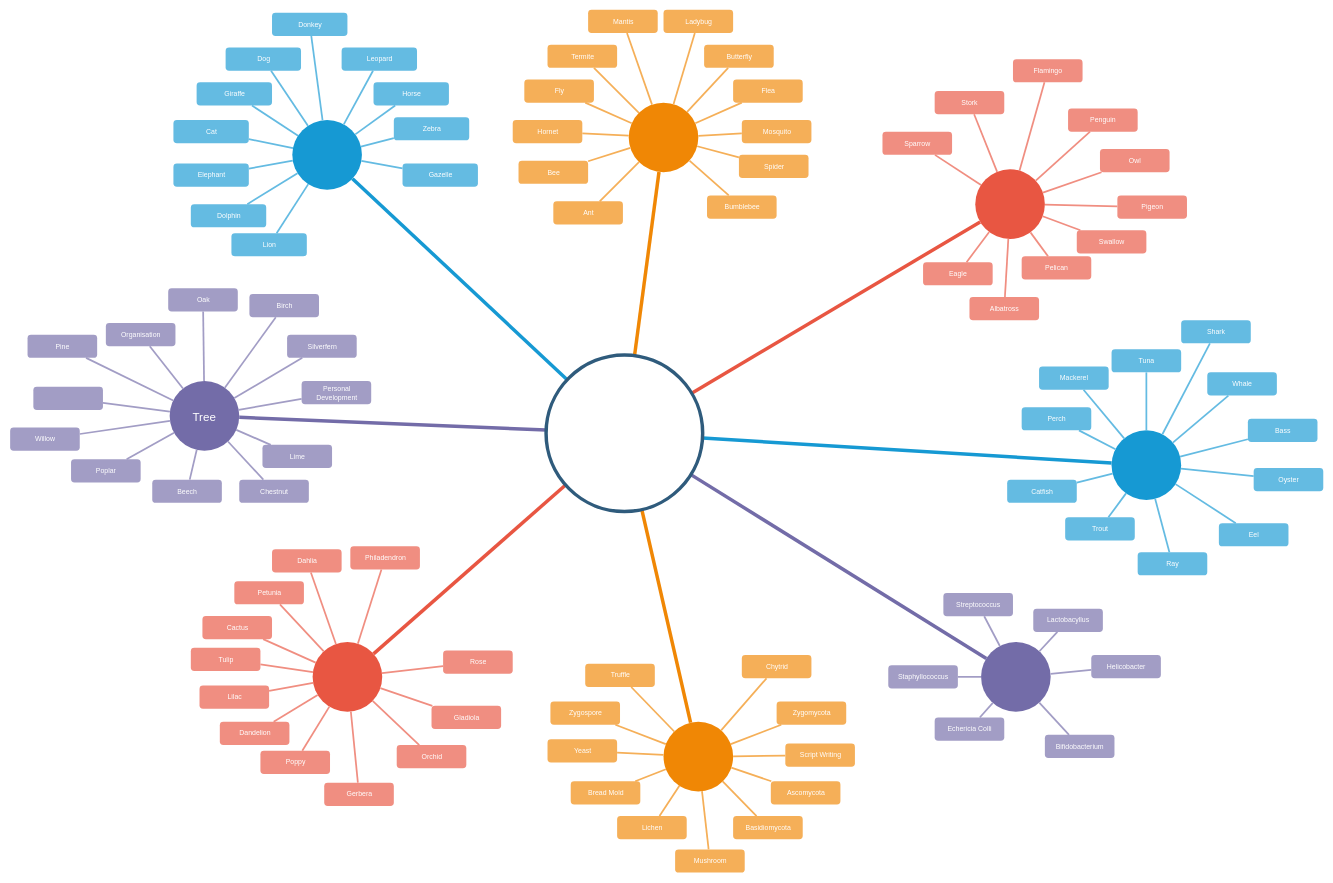
The diagram is 1333 pixels wide and 883 high, and some of its shapes have lost their labels. The centre of each missing label's shape, as x and y in pixels:
Acacia: point 68,398
AWICM3 documentation: point 624,433
Bacteria: point 1015,676
Fish: point 1146,465
Flower: point 347,676
Fungi: point 698,756
Installation: point 663,137
Runtime: point 327,154
Visualization: point 1010,204
